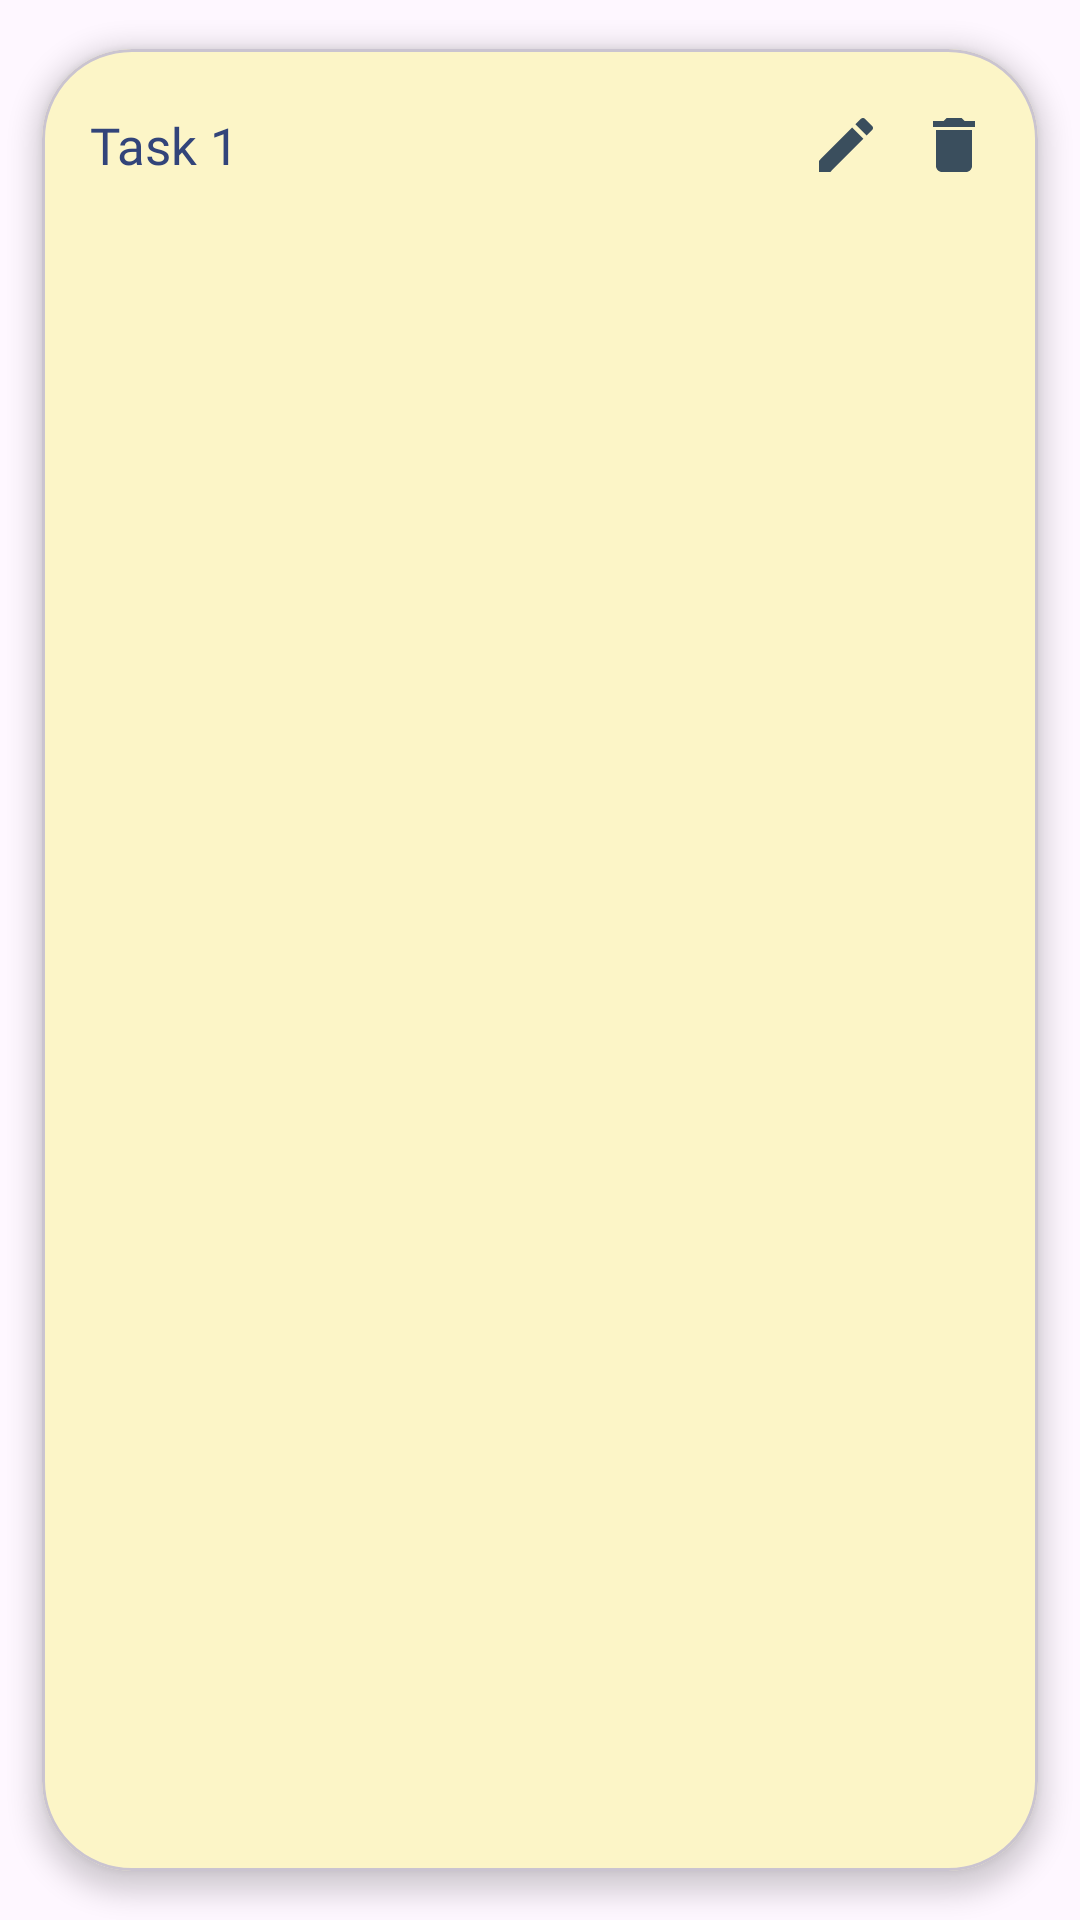

Screen size 1080*1920. Icon name, then its center in pixels as point (x, y):
delete: point (954, 145)
edit: point (846, 145)
